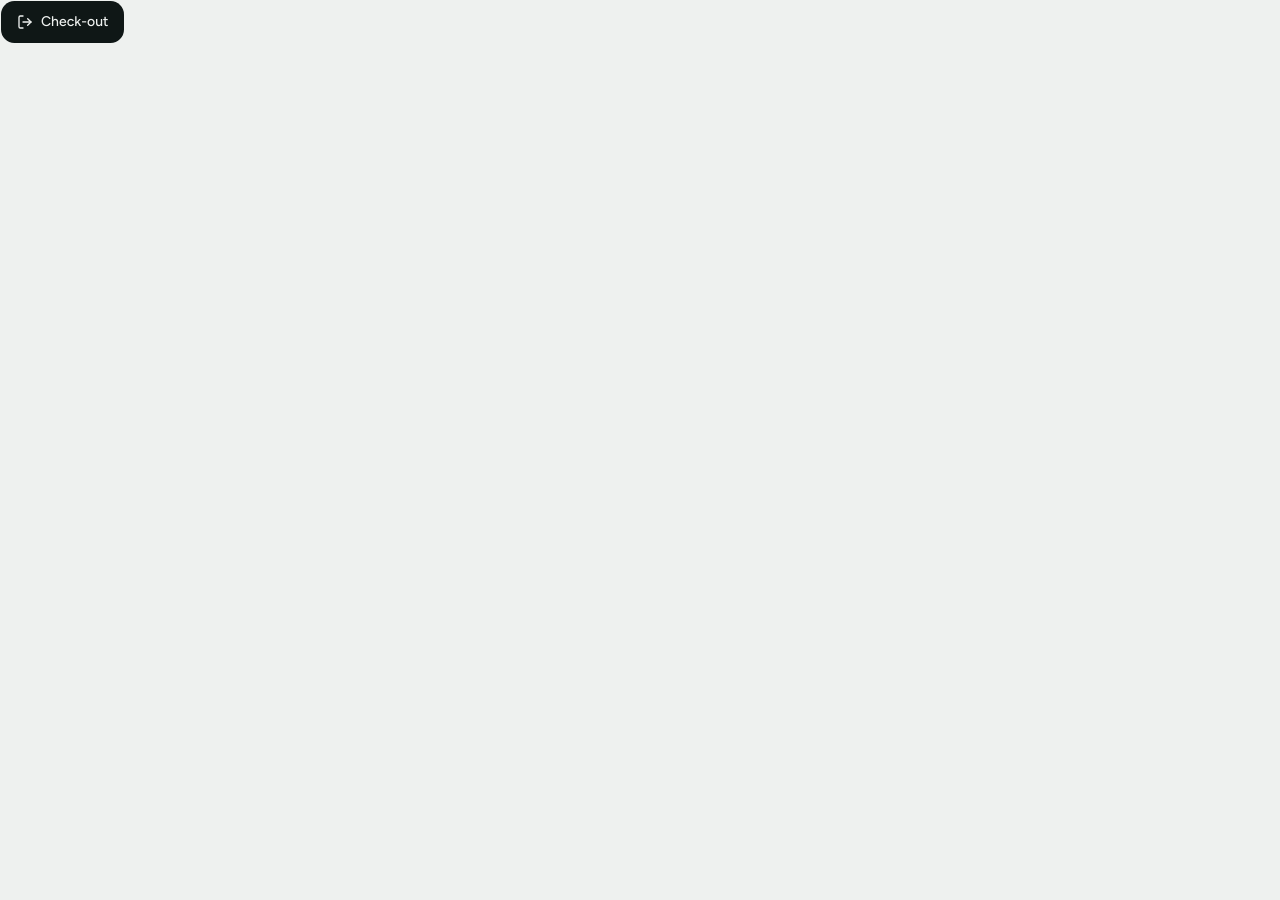
Test: confirmação do check-out › diária e consumo pagos: quitada
Click the button "Check-out". click: x=63, y=22
box: [0,0,125,44]
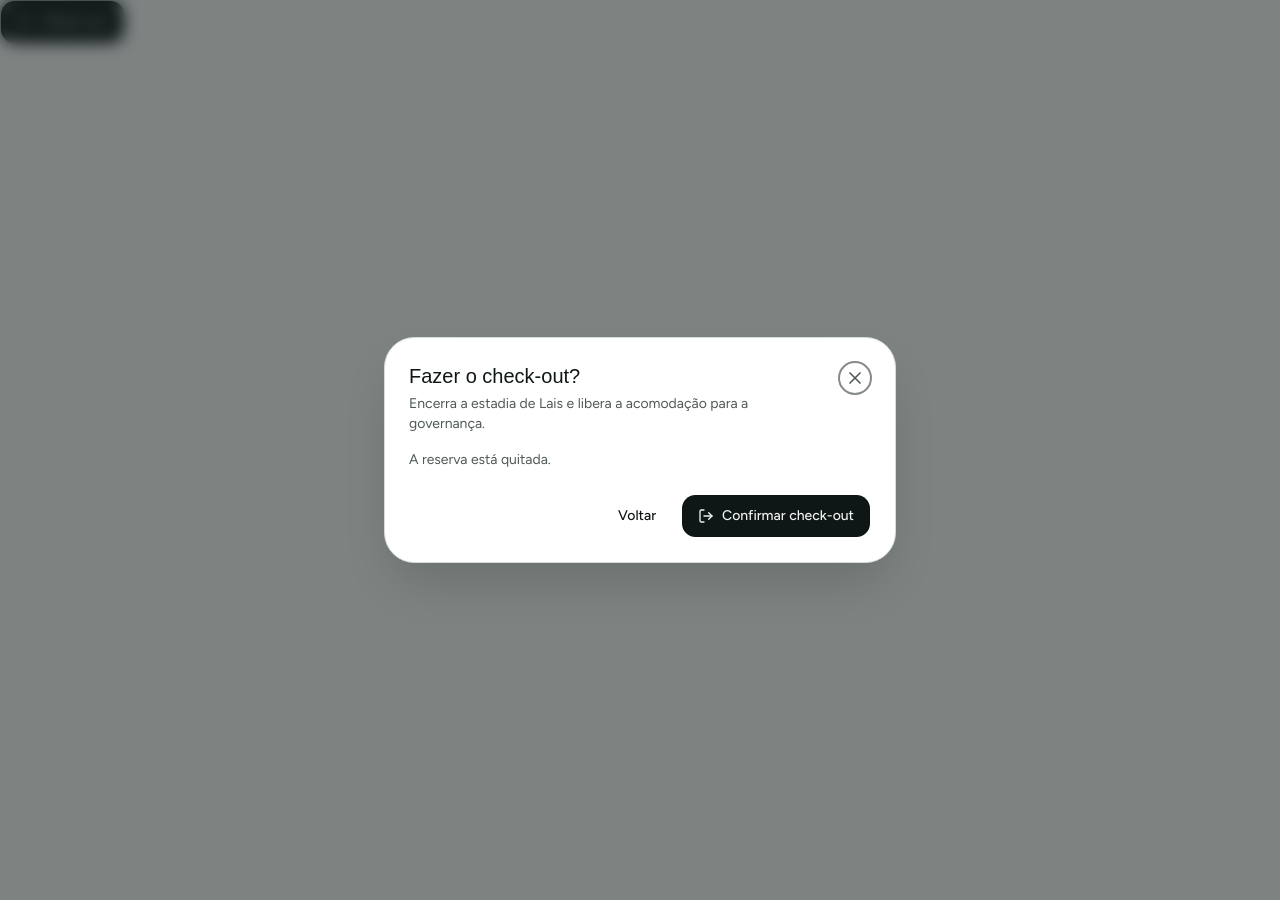
Check: the text "A reserva está quitada." is shown, box [409,451,551,468]
